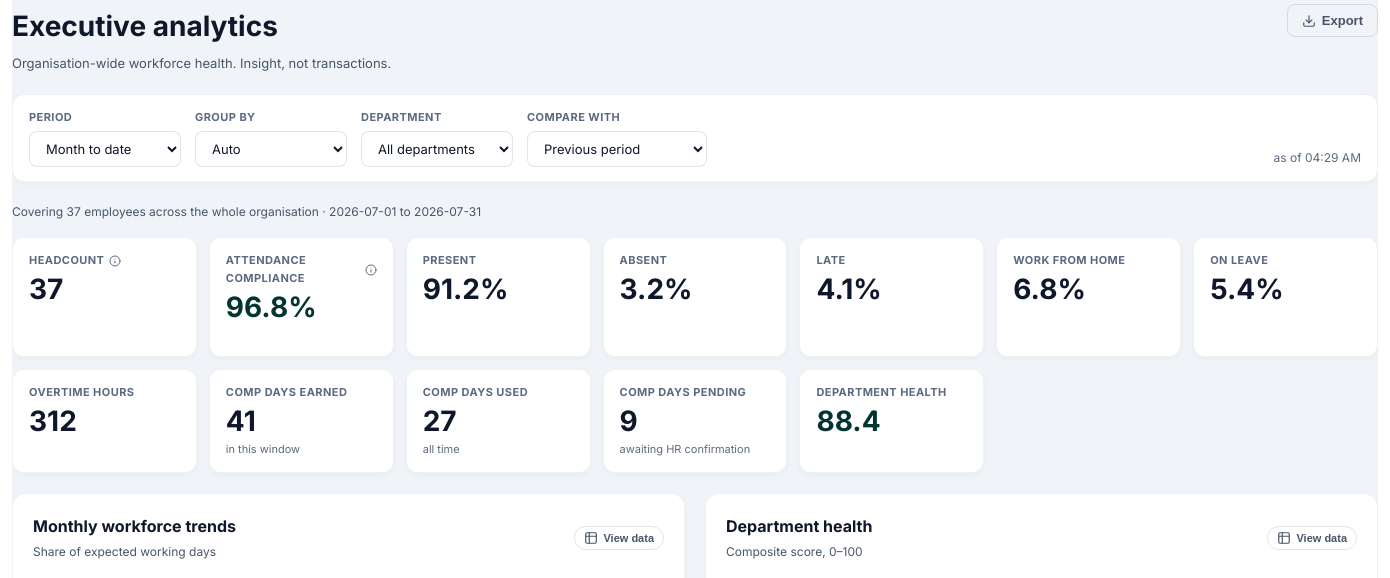
Chart data tables › offers a table view of every chart, as the palette relief requires
Click the button "View data" in the row of "Monthly workforce trends" at (619, 538), box [574,526,664,550]
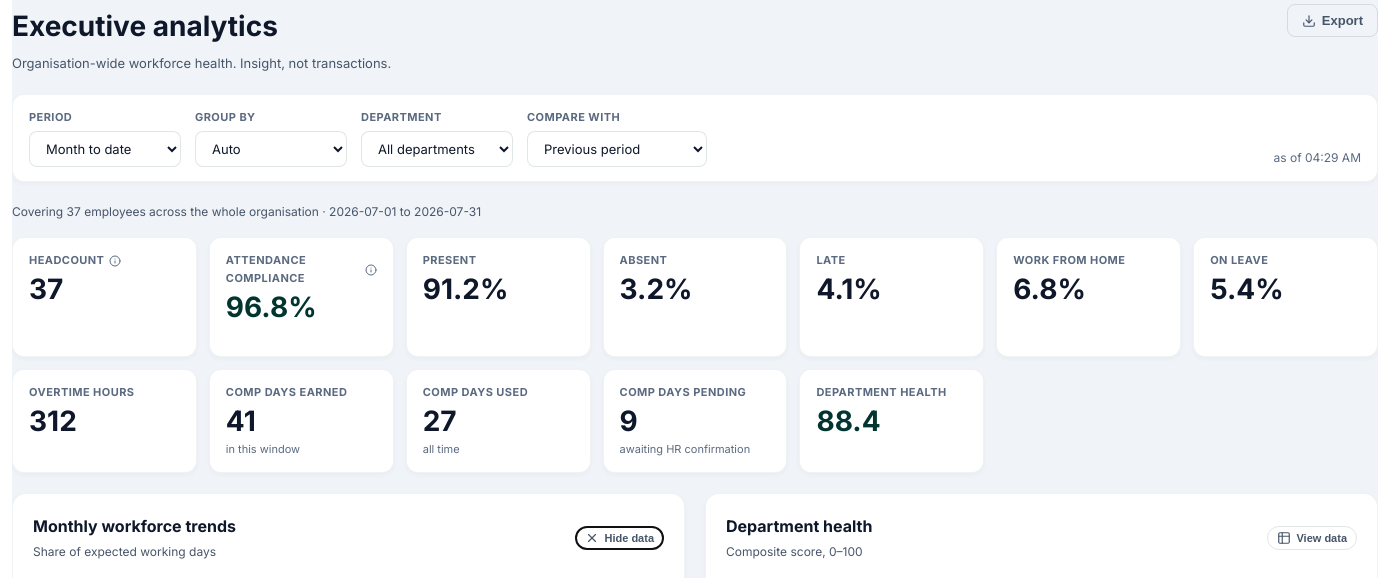
Now the button "Hide data" is shown, box [576,526,664,550]
